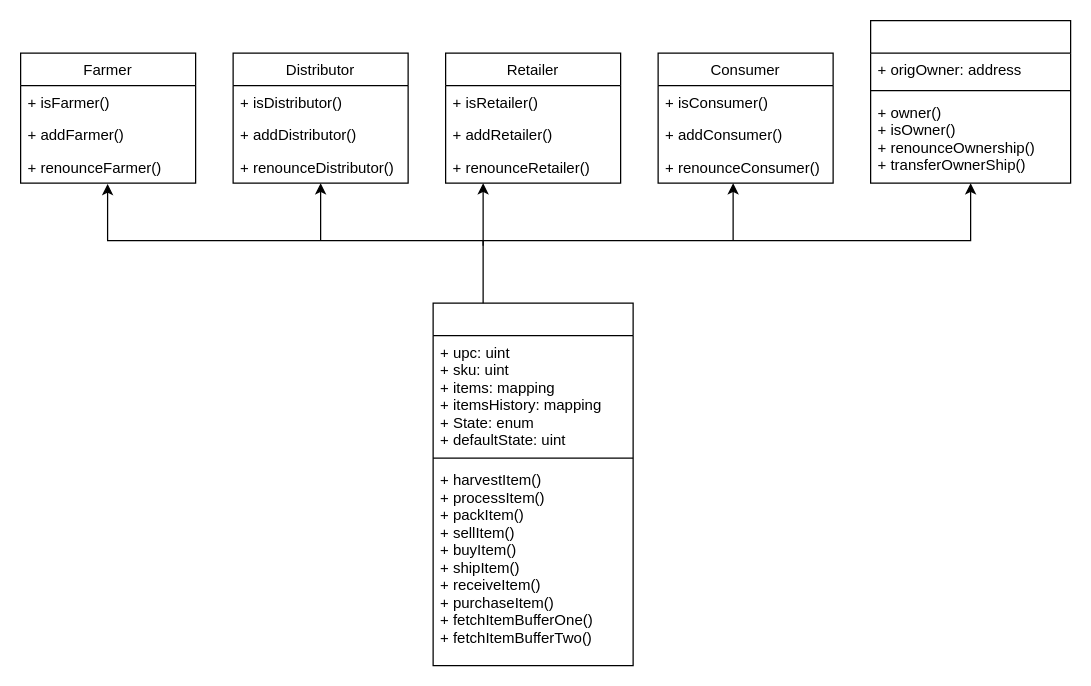
Image size: 1091x686. Some labels were removed from this diagram. The shapes that lost their labels are listed below. From the top down, each one's box as (x1, y1, x2, y2) in pixels, then its label:
(869, 19, 1071, 183): Ownable
(432, 302, 633, 666): Supply Chain
